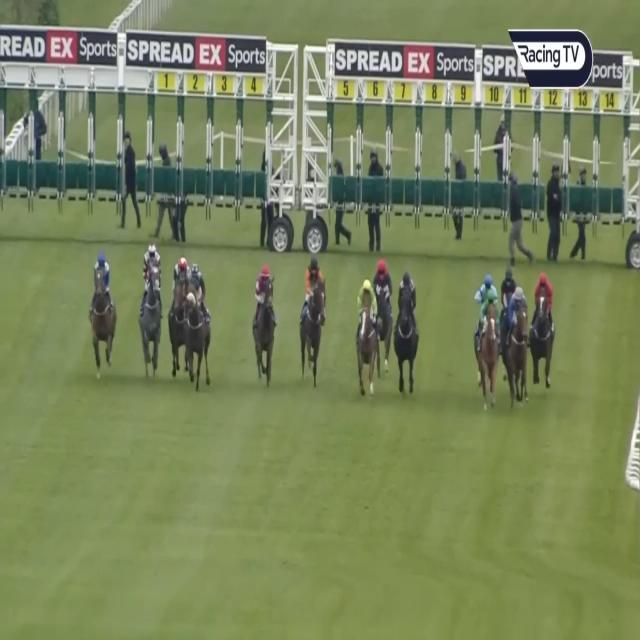horses-racing: (137, 244, 164, 371), (89, 253, 117, 375), (253, 259, 279, 387), (506, 283, 532, 404), (391, 270, 417, 390), (184, 257, 210, 375), (301, 252, 325, 372), (476, 290, 502, 397), (356, 276, 378, 399), (170, 251, 190, 370), (532, 270, 552, 383), (373, 258, 392, 369), (478, 272, 501, 319), (502, 264, 516, 339)
